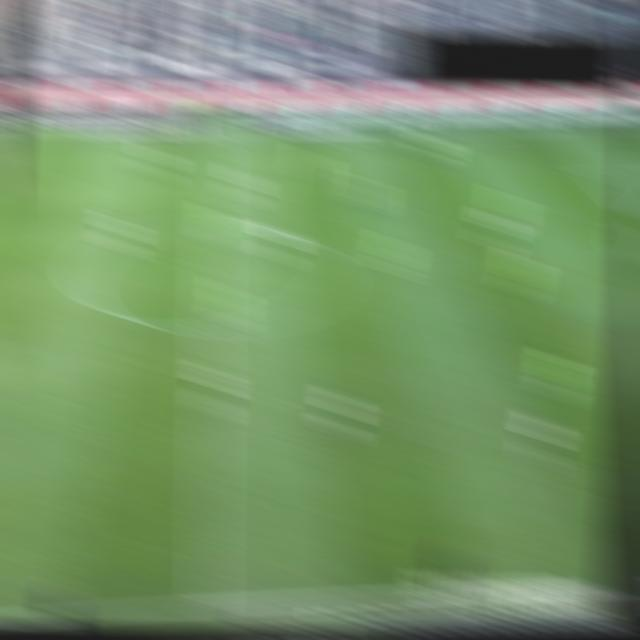bigarea_top_inner: (577, 166, 608, 184)
halfcircle_bottom: (194, 319, 227, 338)
halfcircle_top: (196, 215, 227, 233)
midline_bottom_intersection: (191, 592, 226, 617)
midline_top_intersection: (196, 129, 227, 146)
